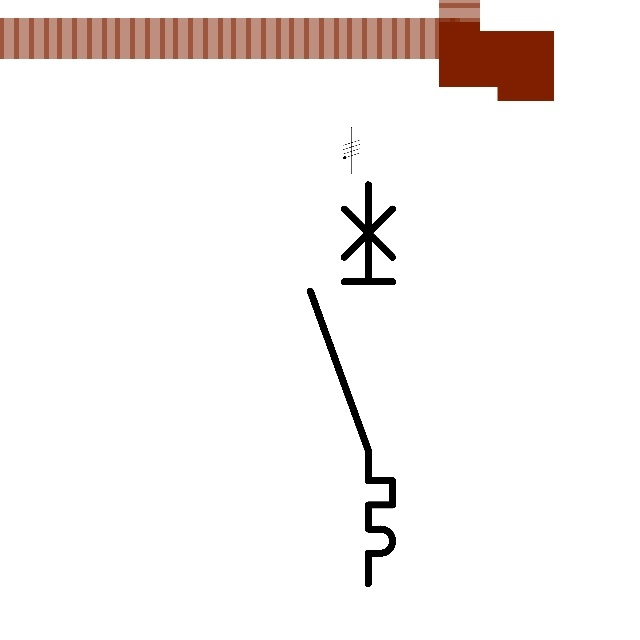interruptor_termomagnetico: (300, 174, 403, 594)
